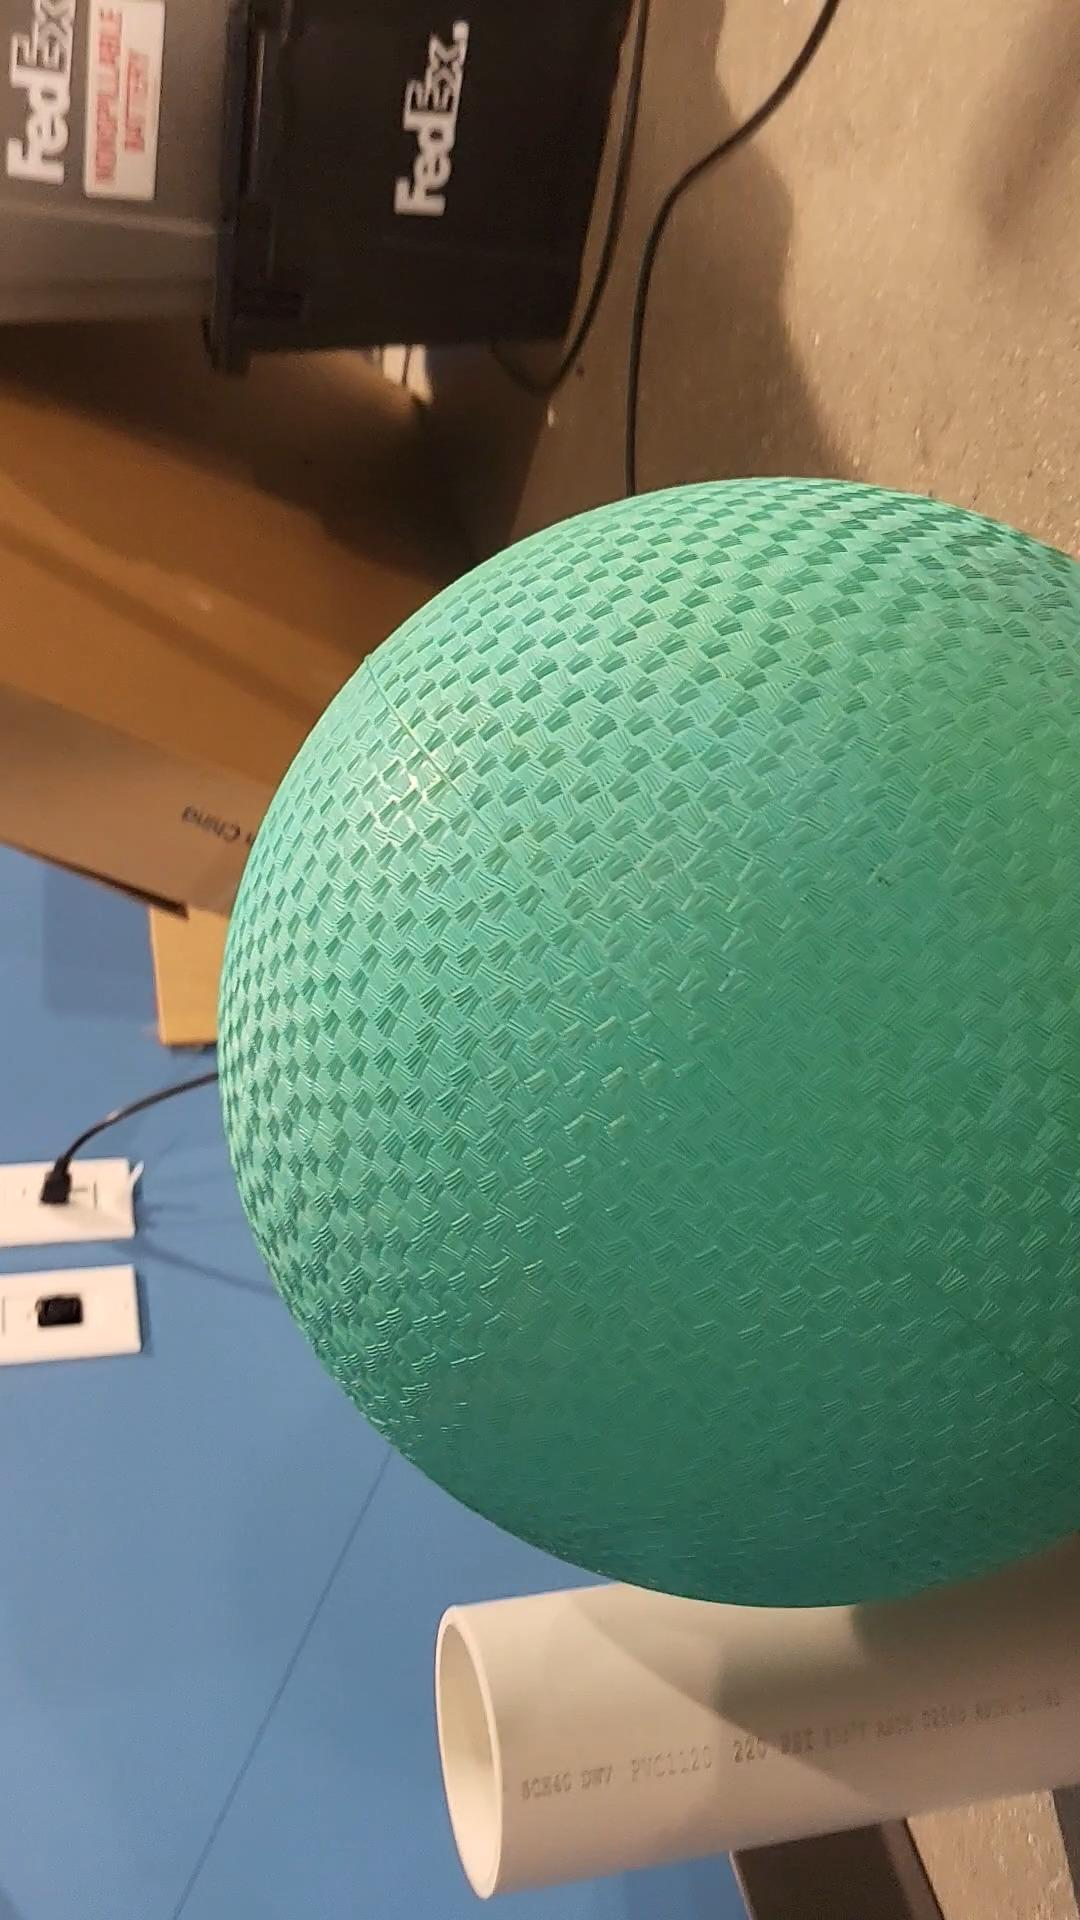algae: (220, 483, 1080, 1605)
coral: (438, 1568, 1080, 1892)
